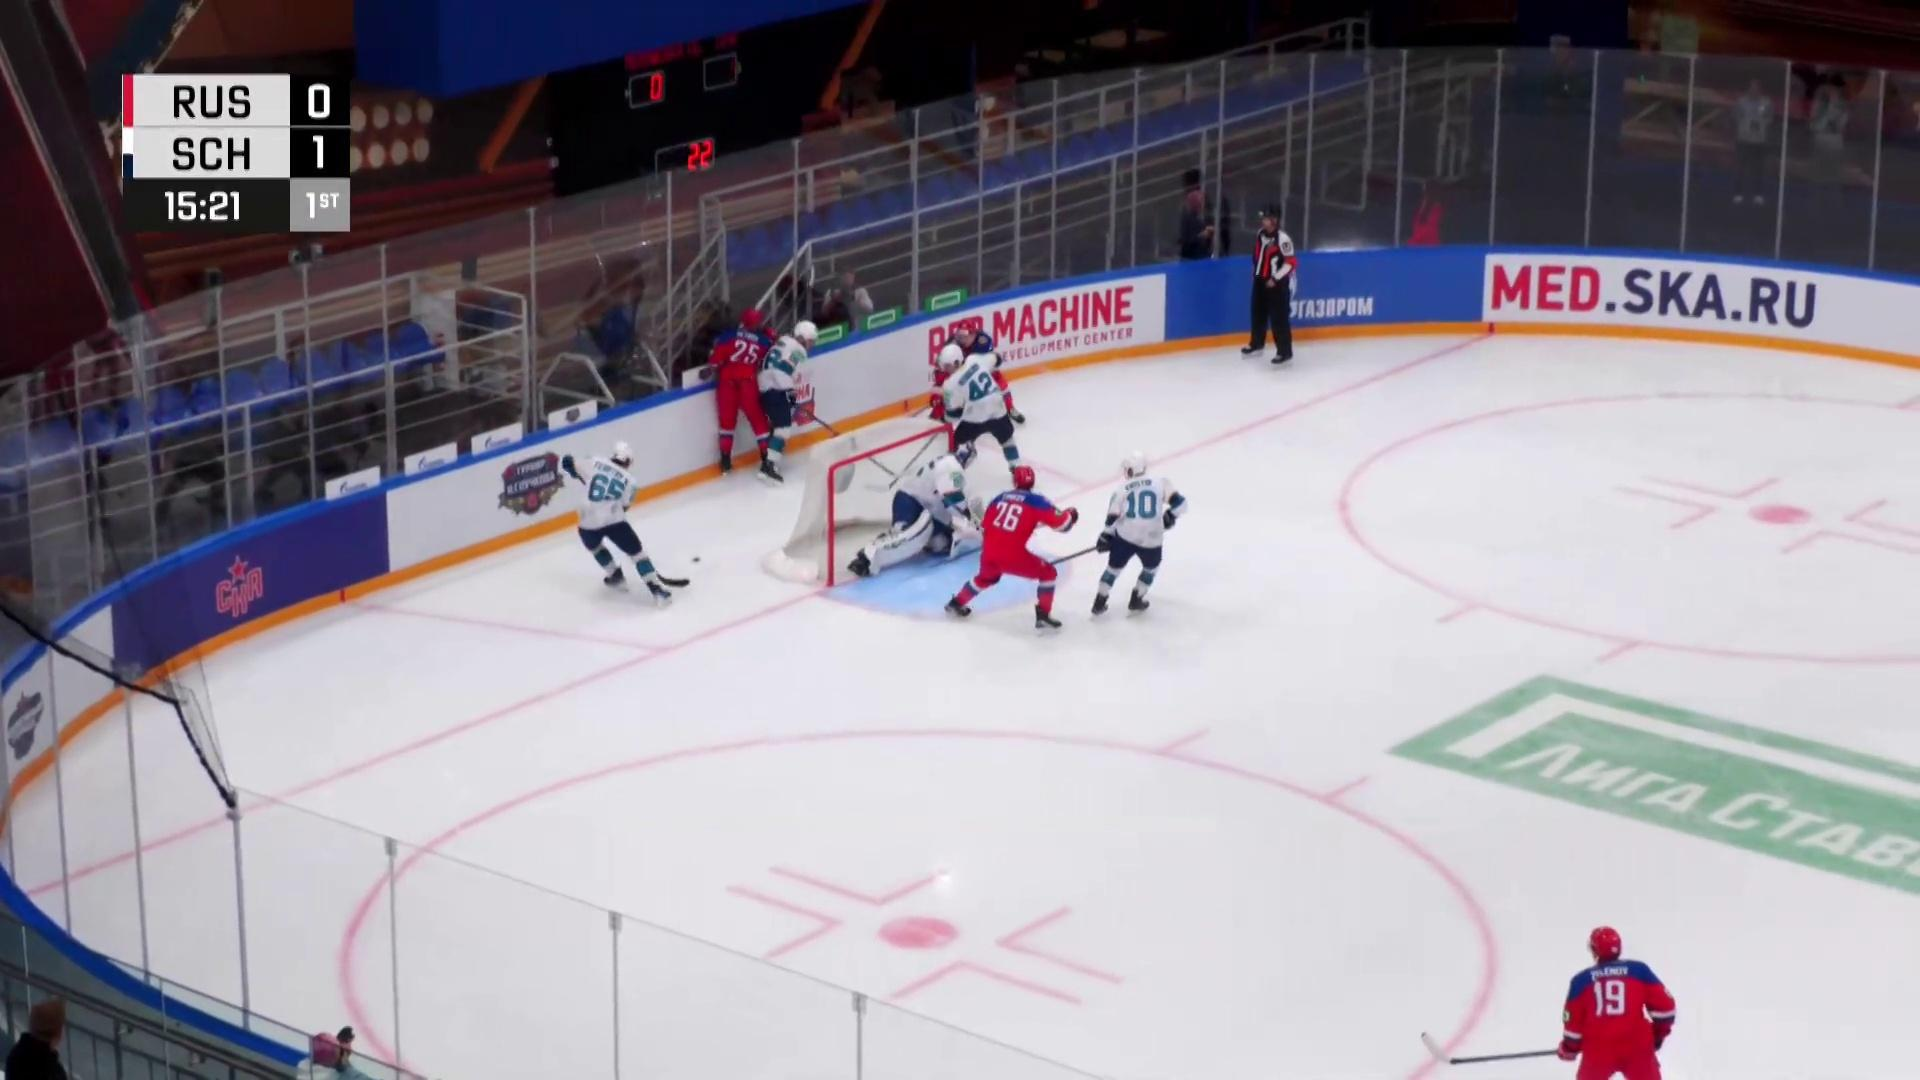ball: (691, 555, 702, 563)
